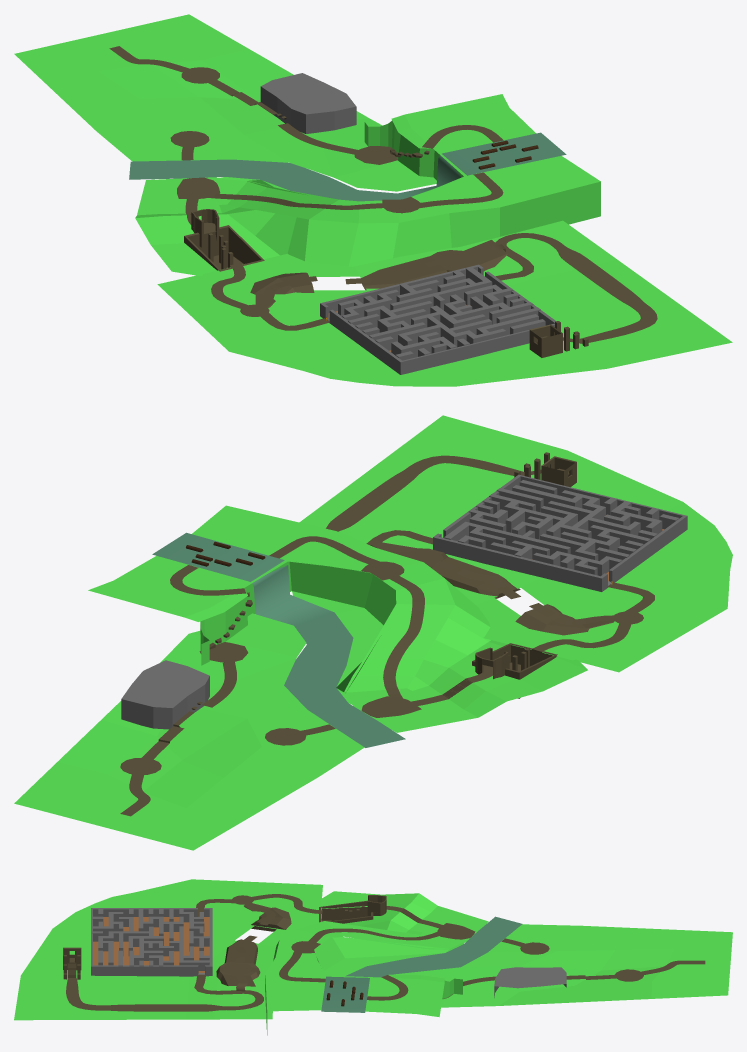
File: ESCENARIO NIVEL1.fbx
The picture shows the model from 3 angles, top to bottom: view 1: azimuth 30°, elevation 25°; view 2: azimuth 150°, elevation 25°; view 3: azimuth 270°, elevation 25°; orthographic projection. The views are drawn at different scales.
Parts seen in each view (by area): view 1: Plane.013; view 2: Plane.013; view 3: Plane.013.
Part boxes in pixels (<box>): Plane.013: <box>14,14,732,386</box>; Plane.013: <box>14,415,732,850</box>; Plane.013: <box>14,879,732,1035</box>.
Bounding box in the file's own units: 234 × 28.06 × 442.
